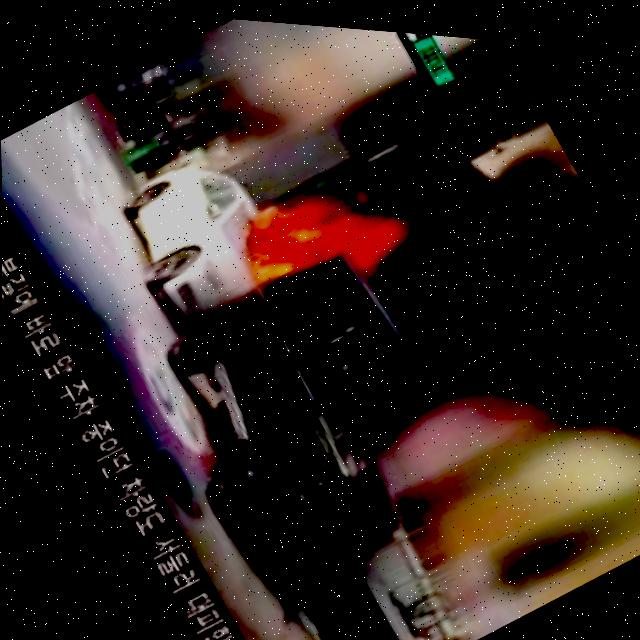Fire: (227, 154, 378, 300)
Smoke: (336, 44, 590, 291)
